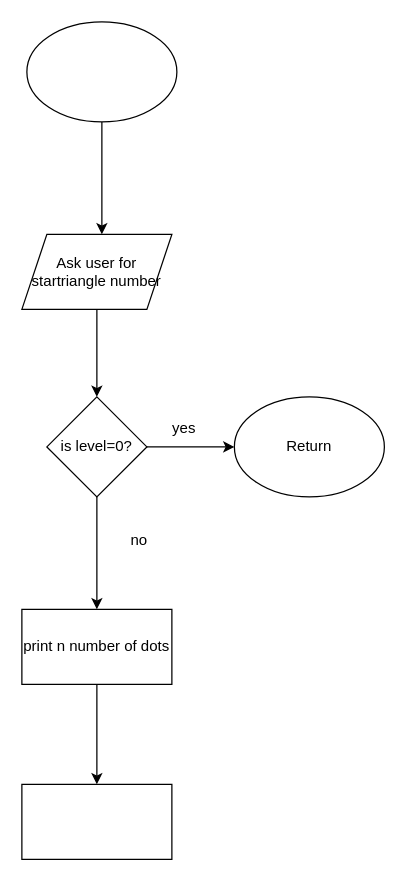
This 406x881 diagram has some shape labels left out. The centre of each missing label's shape, as x and y in pixels:
"Start Program" goes at point (101, 71).
"startriangle(n-1)" goes at point (96, 821).
